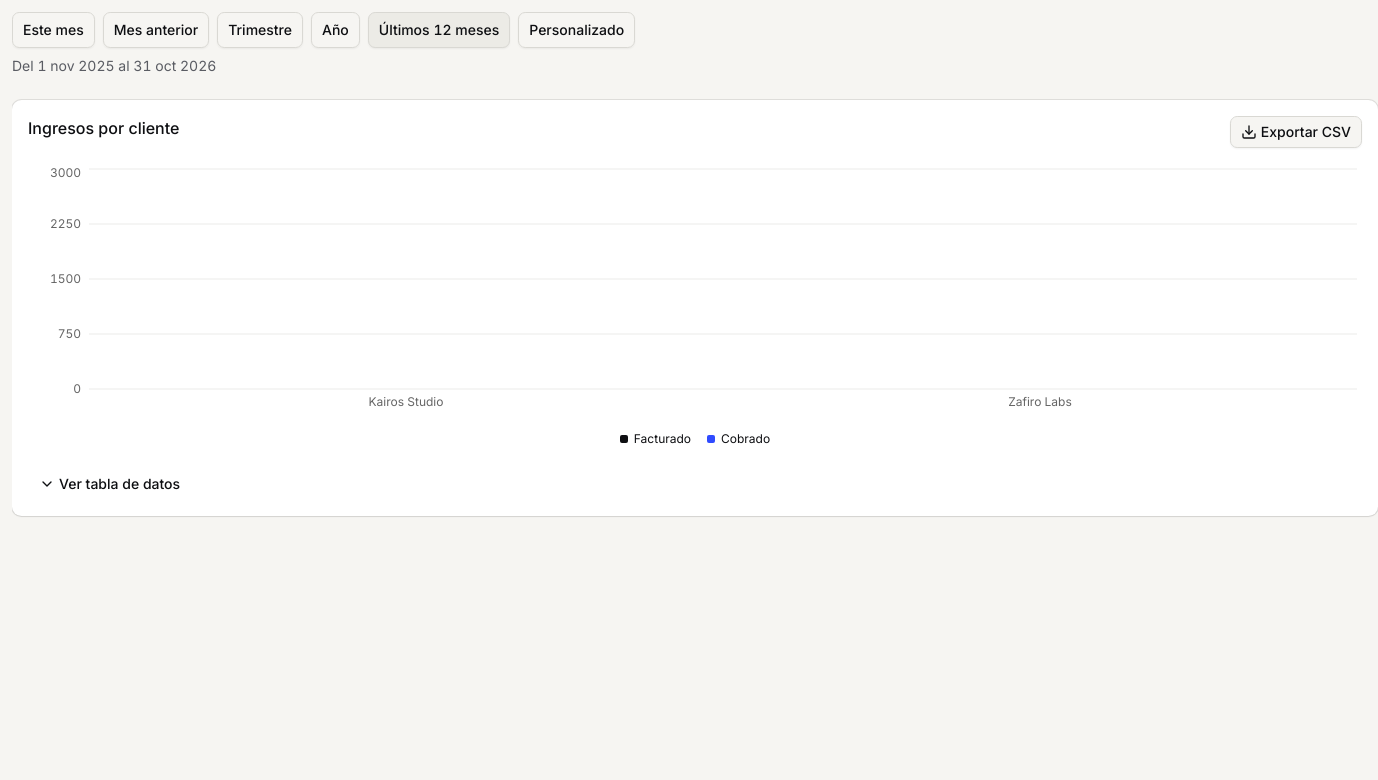
Test: ReportDetail › renders the REVENUE_BY_CLIENT report with its chart and data table
The width and height of the screenshot is (1378, 780).
expect the button "Exportar CSV" is enabled: met, box [1230,116,1362,148]
Click the button "Ver tabla de datos". click: [110, 484]
box: [28,468,191,500]
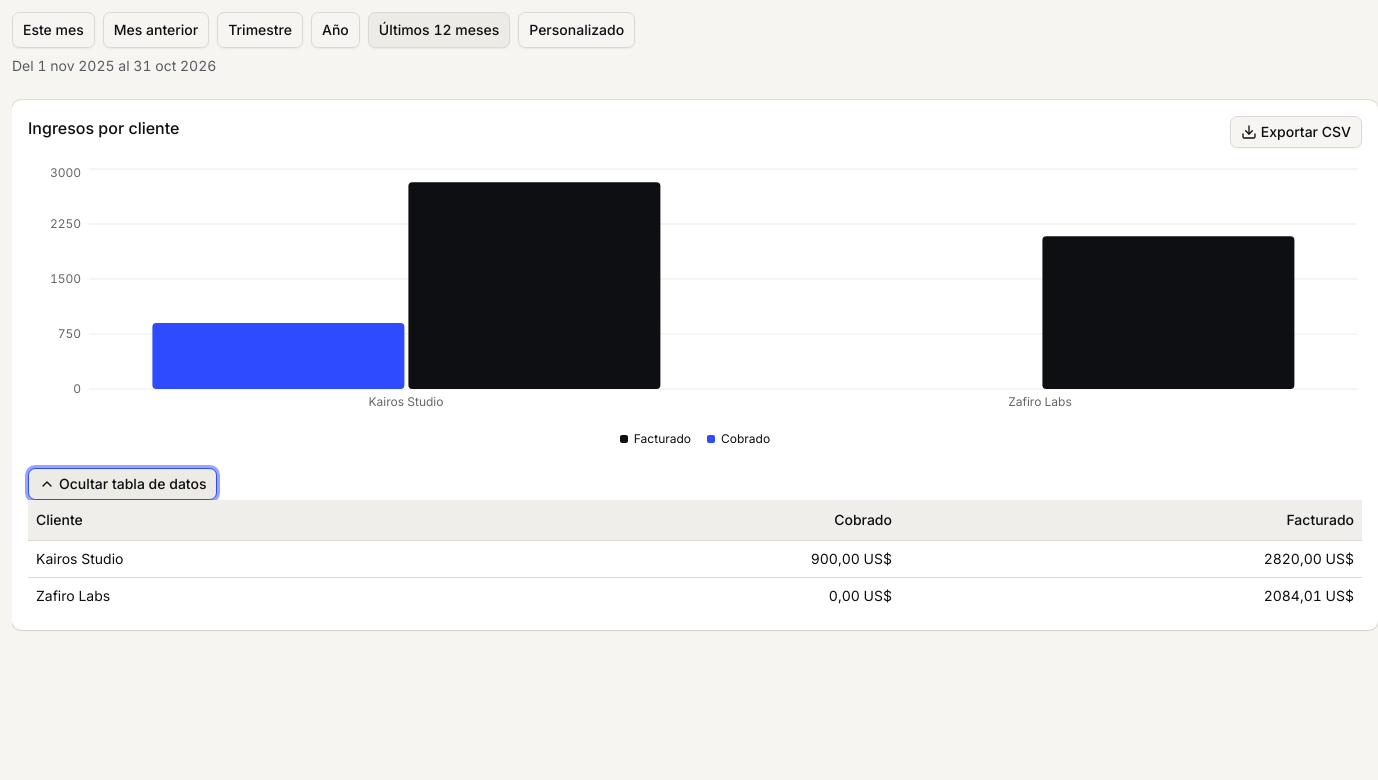
expect the table is shown: met, box [28,500,1362,614]
